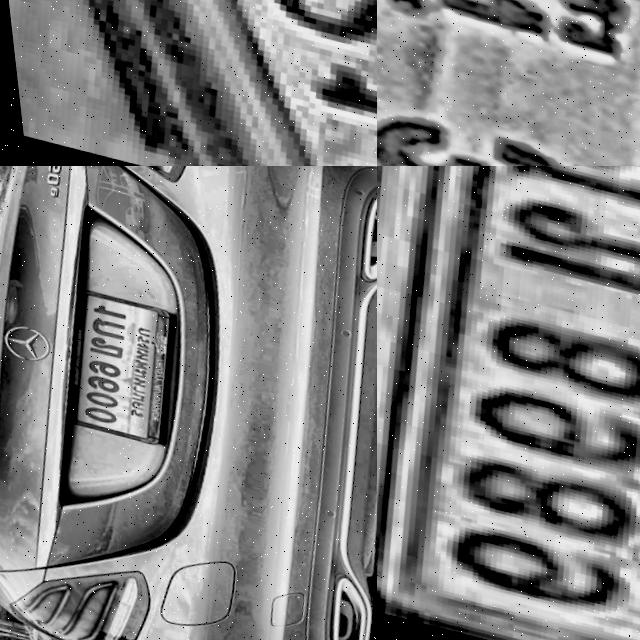license-plate: (377, 166, 640, 640), (0, 0, 377, 166), (377, 0, 640, 166), (43, 278, 184, 444)
